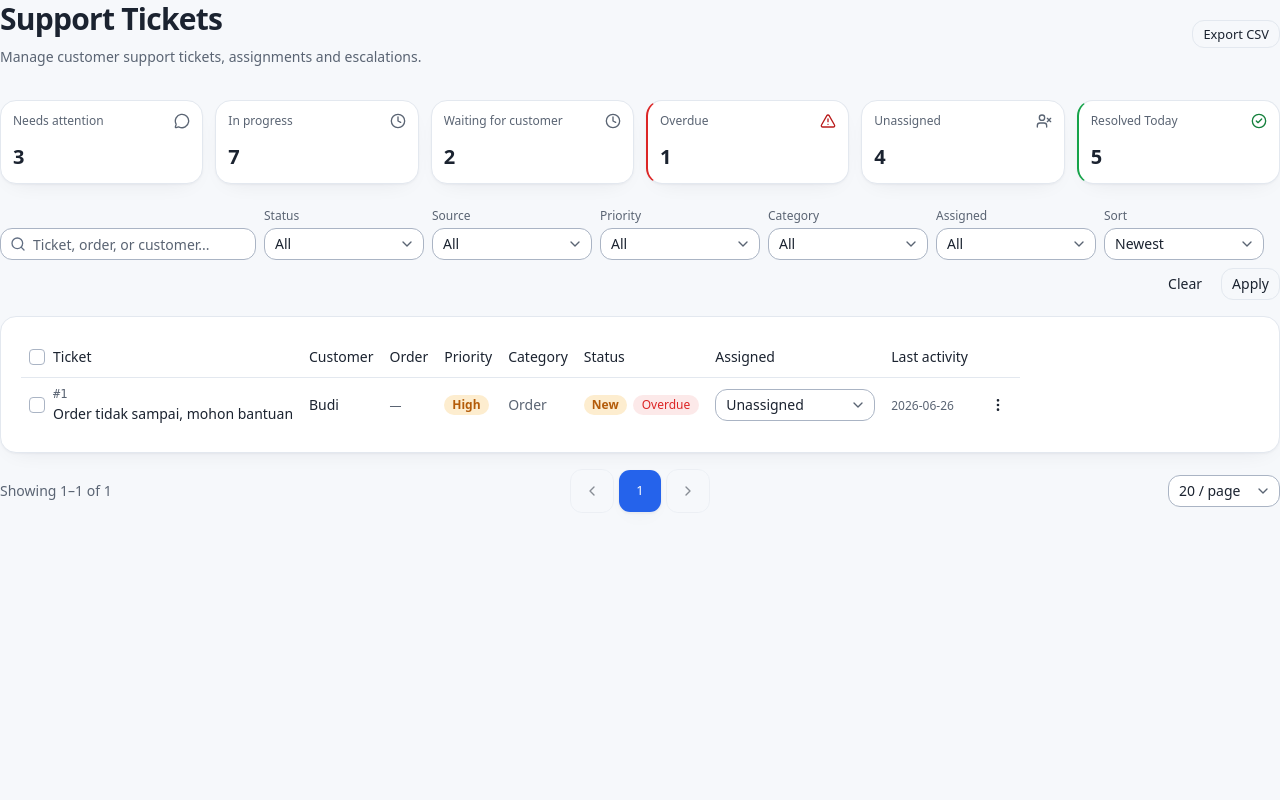
Test: SupportPage › doesn't double-toast when the admin's own Close action causes the next refetch to see the ticket as CLOSED
Expected: the text "Order tidak sampai, mohon bantuannya untuk dicek ya kak" is shown, [53,404,293,424]
Click the button named "Actions for ticket #1".
click(998, 405)  # box [984,391,1012,419]
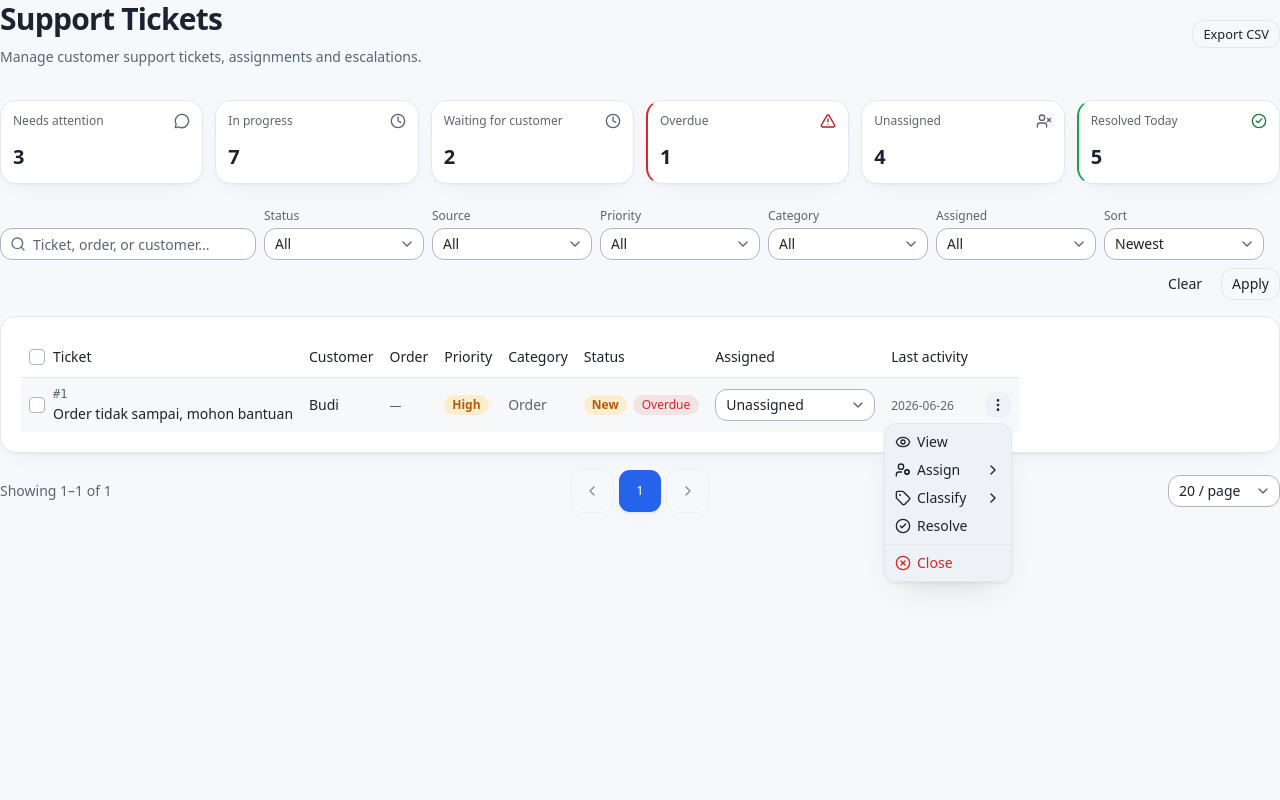
Click the menu item "Close".
click(924, 562)  # box [895,553,952,572]
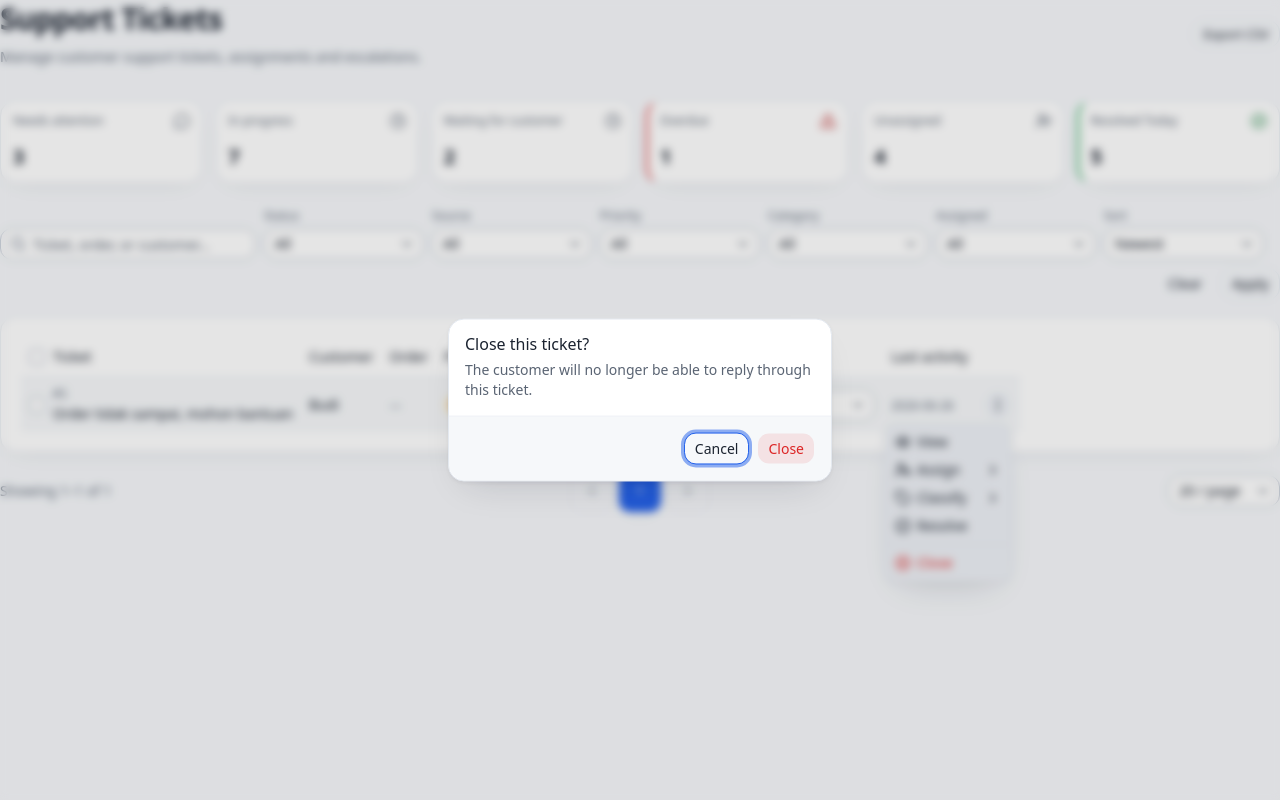
Click the button "Close".
click(786, 448)  # box [758,432,815,464]
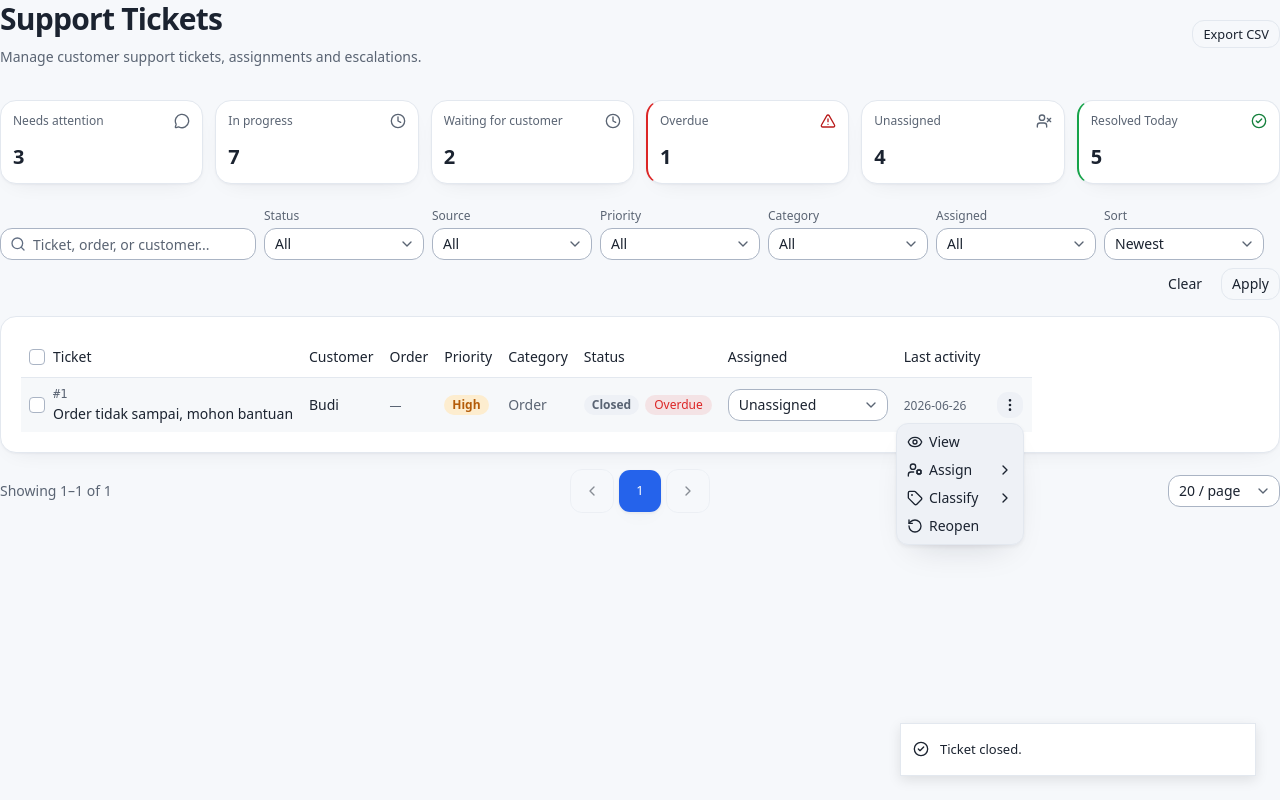
Expected: the text "Ticket closed." is shown once, [940,740,1022,759]
